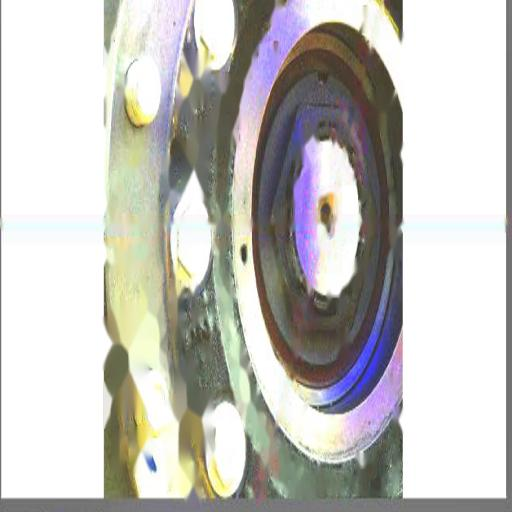center: (316, 196, 336, 234)
notch: (314, 62, 333, 94)
